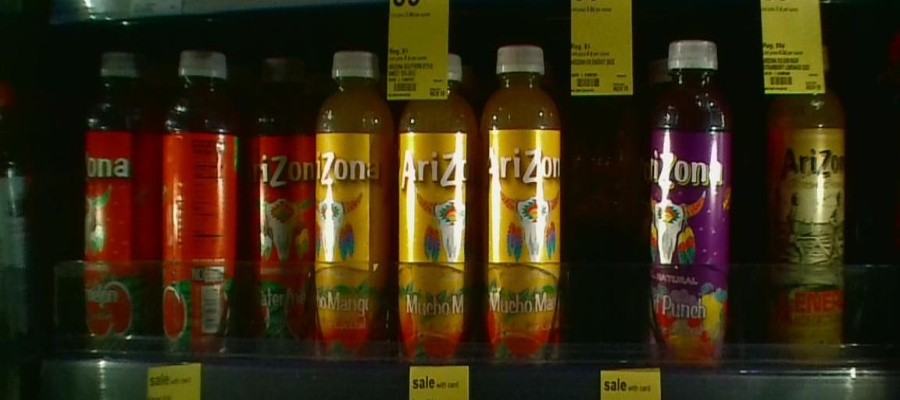bottle: (646, 40, 737, 368), (478, 30, 562, 361), (74, 32, 156, 362), (159, 35, 241, 365), (768, 34, 846, 360), (316, 44, 395, 360), (401, 42, 477, 362), (245, 41, 312, 358)
